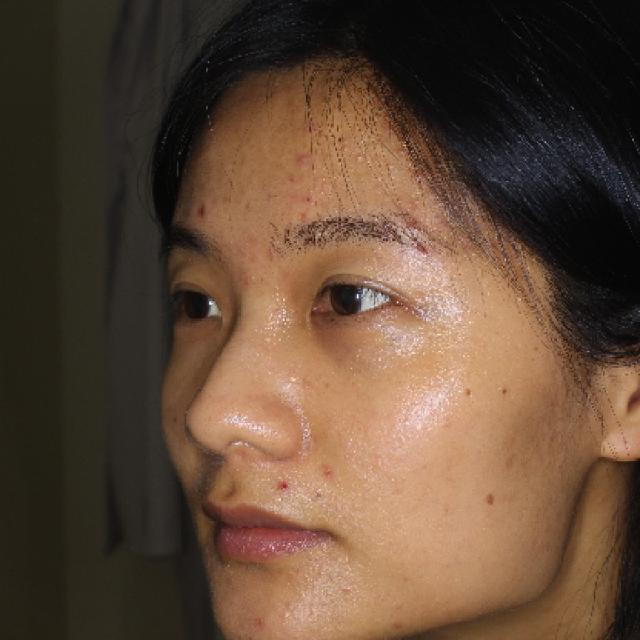Acne: (476, 484, 504, 512), (286, 149, 314, 170), (192, 197, 215, 221)
Blackheads: (491, 375, 517, 403), (456, 380, 478, 405), (272, 477, 294, 498)
Whiteheads: (316, 458, 340, 484), (337, 582, 357, 599)
